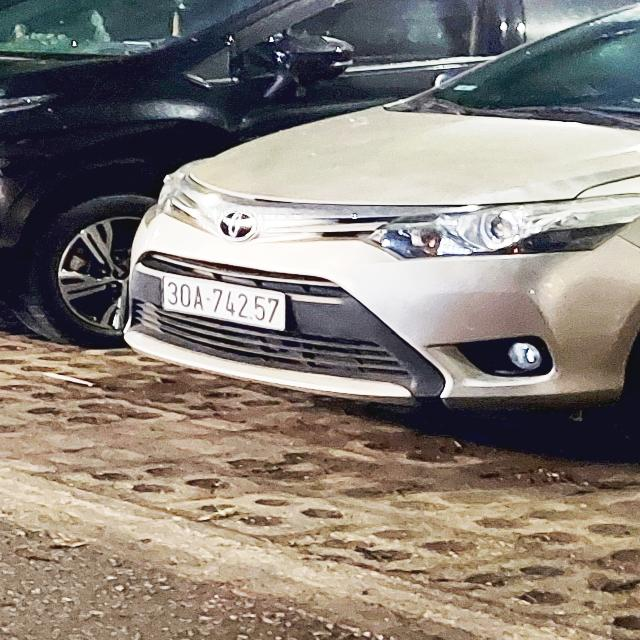license_plate: (159, 276, 287, 332)
